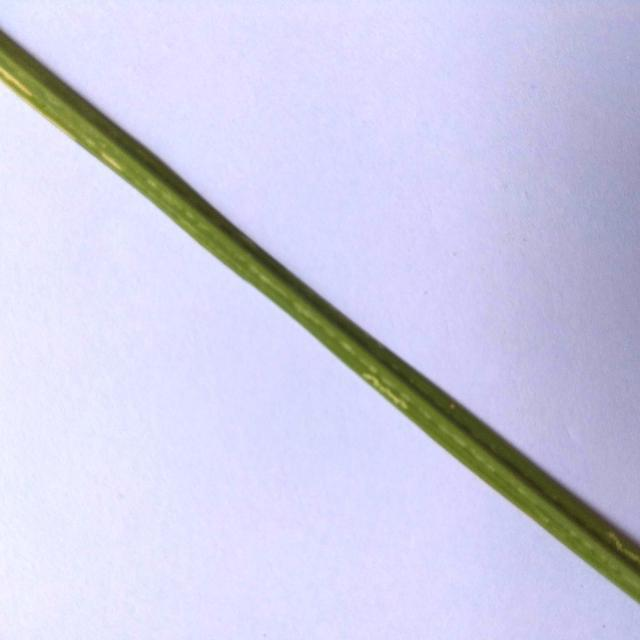Blast: (101, 150, 126, 166)
